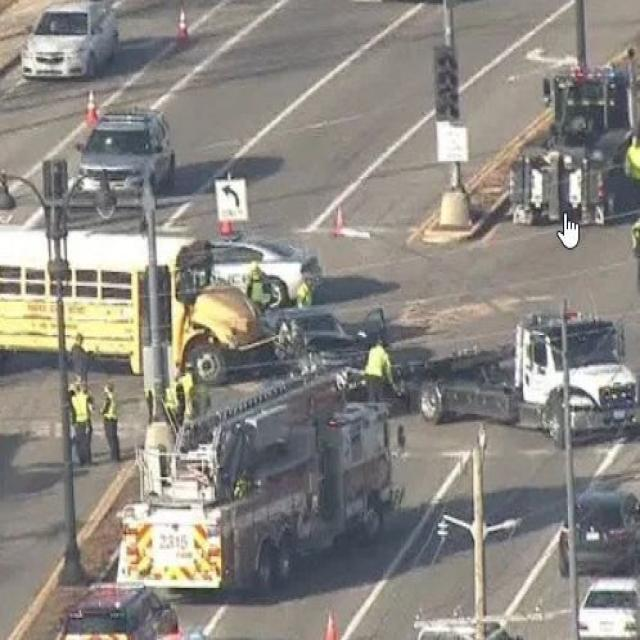traffic_incident: (247, 281, 433, 414)
